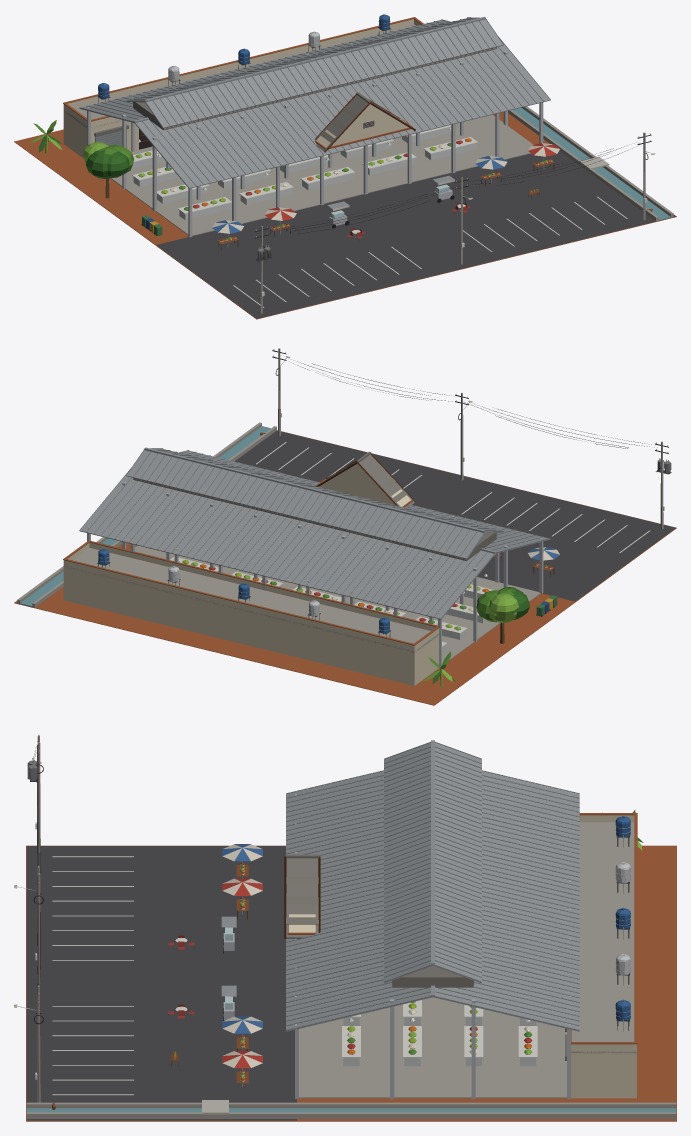
Rendered from market.glb.
3 renders of one model, top to bottom at view 1: azimuth 30°, elevation 25°; view 2: azimuth 150°, elevation 25°; view 3: azimuth 270°, elevation 25°, orthographic. The views are drawn at different scales.
Parts seen in each view (by area): view 1: body; view 2: body; view 3: body.
Part boxes in pixels (bbox=[...]): body: bbox=[14, 14, 676, 319]; body: bbox=[14, 348, 676, 705]; body: bbox=[14, 734, 676, 1121].
Size of the model in its own units: 48.92 by 10.75 by 48.77.
